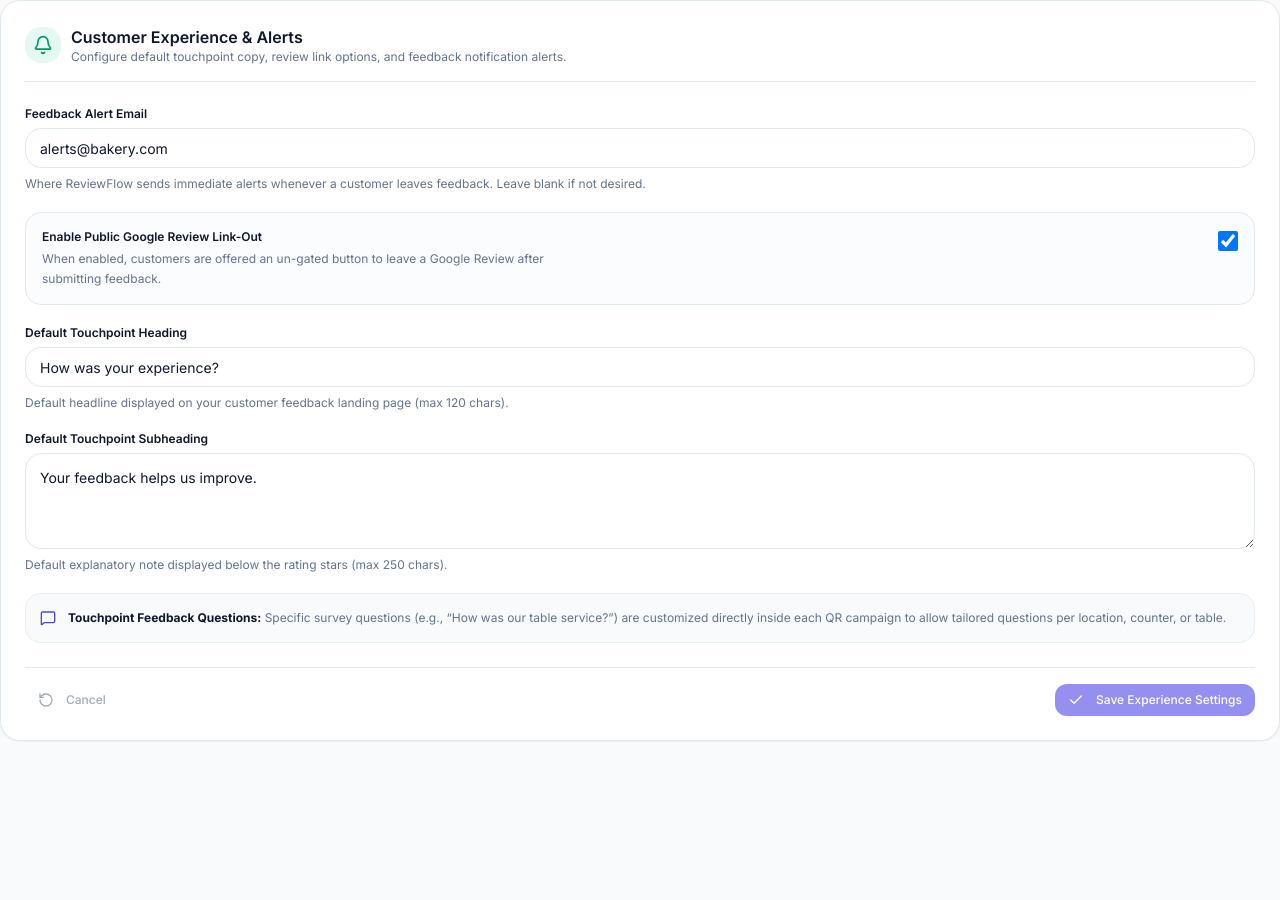
Test: NotificationSettingsForm Component › validates notification email and shows error for invalid emails
This screenshot has width=1280, height=900.
// Invalid email
Replace the text in the field labelled "Feedback Alert Email" with "not-an-email" at (640, 148), box [25, 128, 1255, 168]
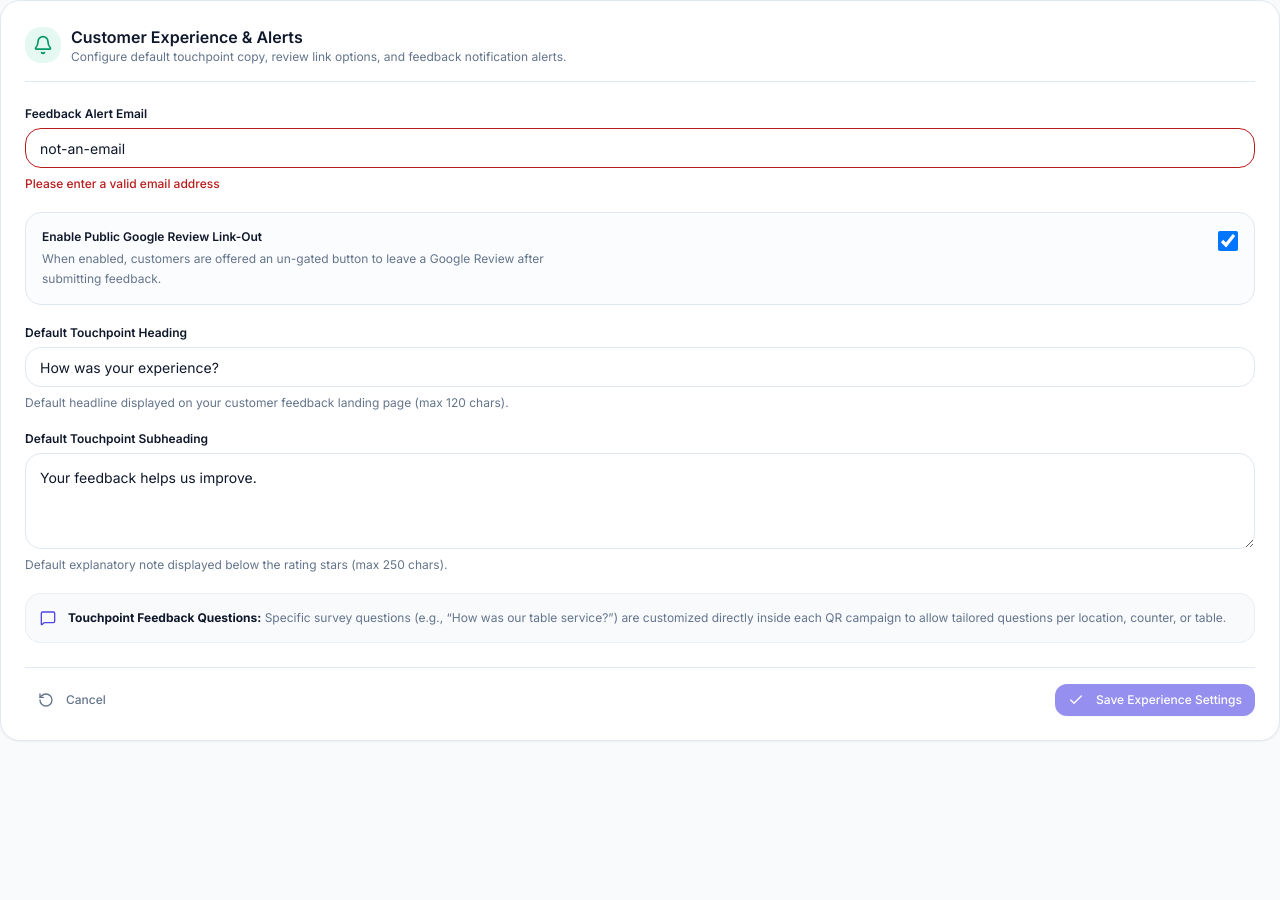
Check: the button "Save Experience Settings" is disabled, box [1055, 684, 1255, 716]
Check: the text "Please enter a valid email address" is shown, box [25, 176, 220, 191]
// Valid email
Replace the text in the field labelled "Feedback Alert Email" with "valid@bakery.com" at (640, 148), box [25, 128, 1255, 168]
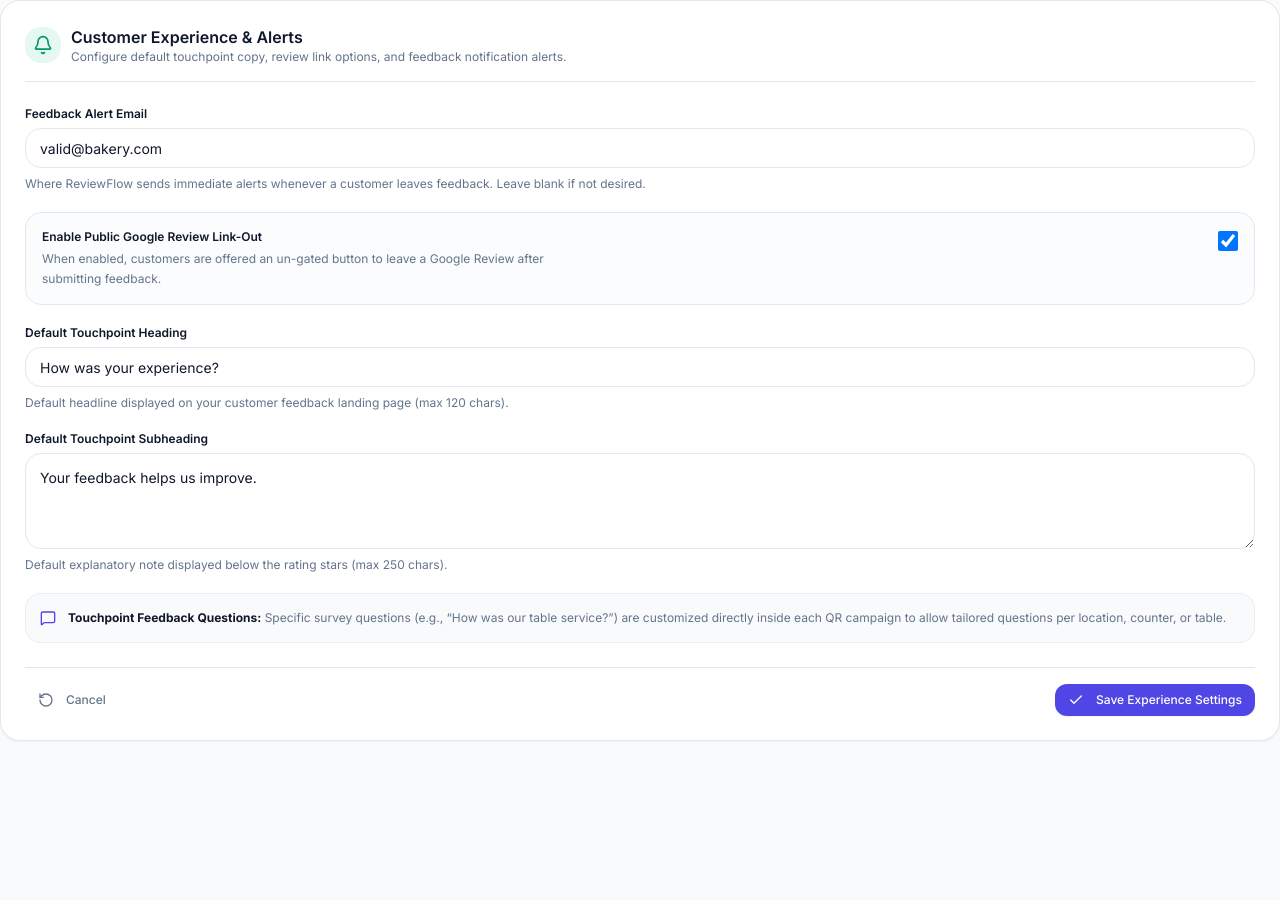
Check: the text "Please enter a valid email address" is gone
Check: the button "Save Experience Settings" is enabled, box [1055, 684, 1255, 716]
